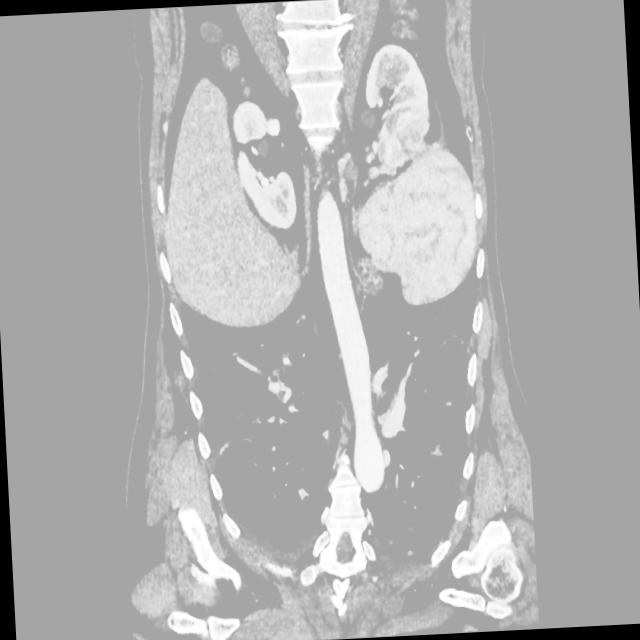TUMOR: (121, 95, 506, 331)
